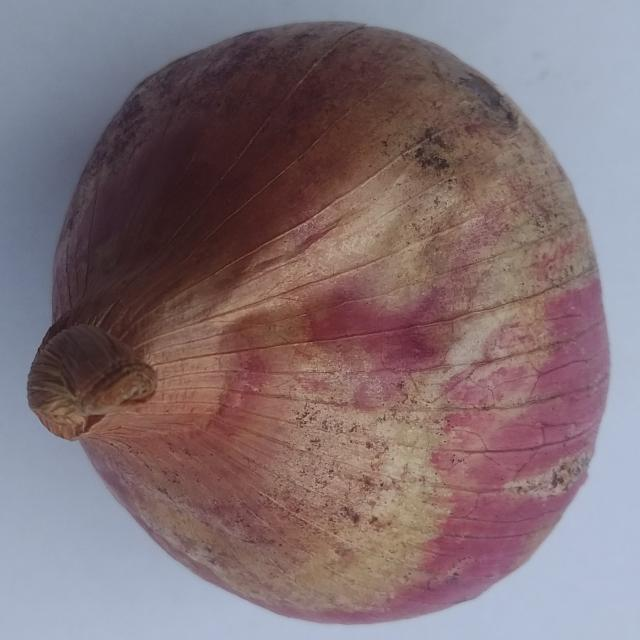onion: (24, 19, 614, 628)
